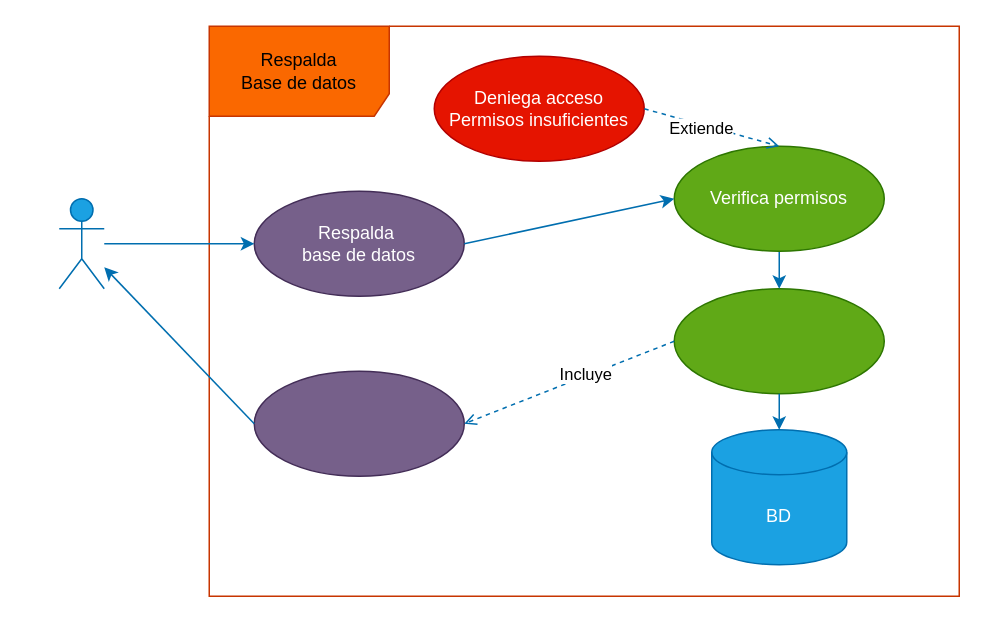
The diagram is 986 pixels wide and 623 high, and some of its shapes have lost their labels. Each missing label, with the centre of its shape:
"Administrador" goes at (x=81, y=243).
"Exporta información" goes at (x=778, y=340).
"Genera archivo de respaldo" goes at (x=358, y=423).
